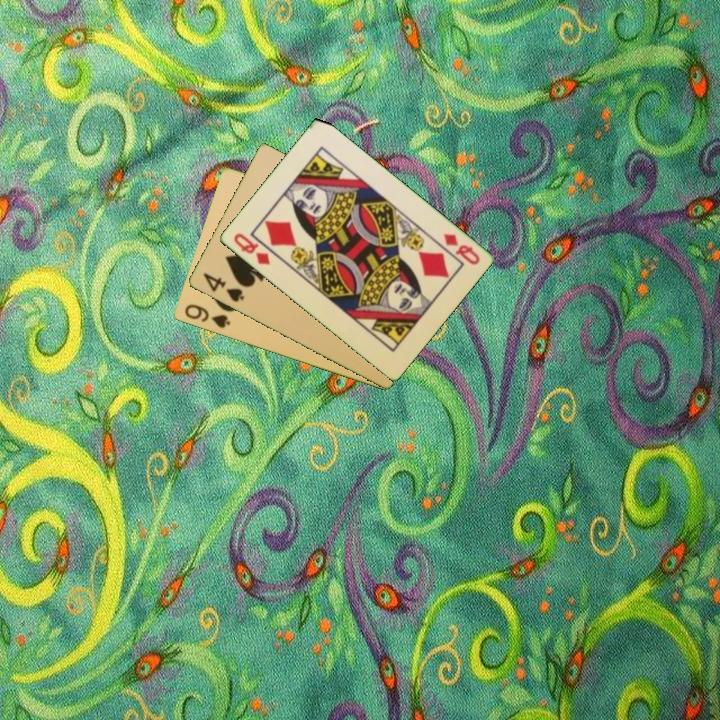4s: (199, 269, 247, 305)
9s: (181, 301, 233, 331)
Qd: (229, 229, 273, 268), (439, 230, 483, 268)
